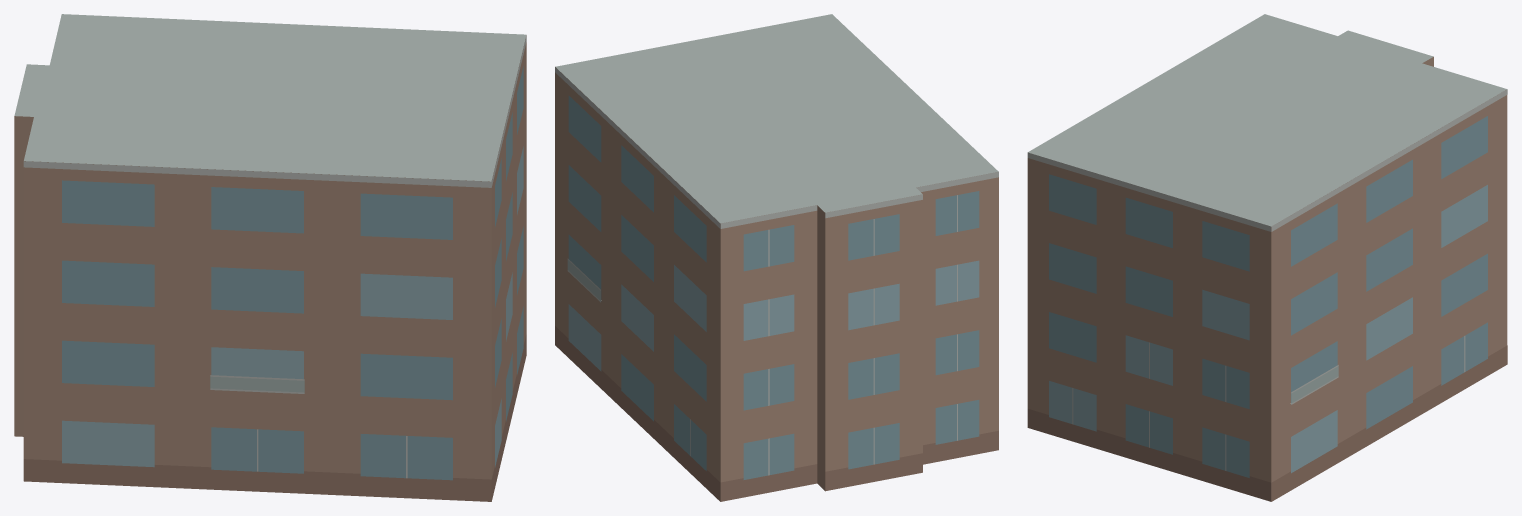
File: survey-upis-32775797.glb
3 views of the same model, side by side, from view 1: azimuth 30°, elevation 25°; view 2: azimuth 150°, elevation 25°; view 3: azimuth 270°, elevation 25° (orthographic). The views are drawn at different scales.
Parts seen in each view (by area): view 1: survey-upis-32775797.tmp; view 2: survey-upis-32775797.tmp; view 3: survey-upis-32775797.tmp.
Part boxes in pixels (x1,y1,x2,y2): survey-upis-32775797.tmp: [14, 14, 526, 501]; survey-upis-32775797.tmp: [555, 14, 998, 501]; survey-upis-32775797.tmp: [1027, 14, 1507, 501].
Size of the model in its own units: 20.2 by 12.2 by 19.28.
